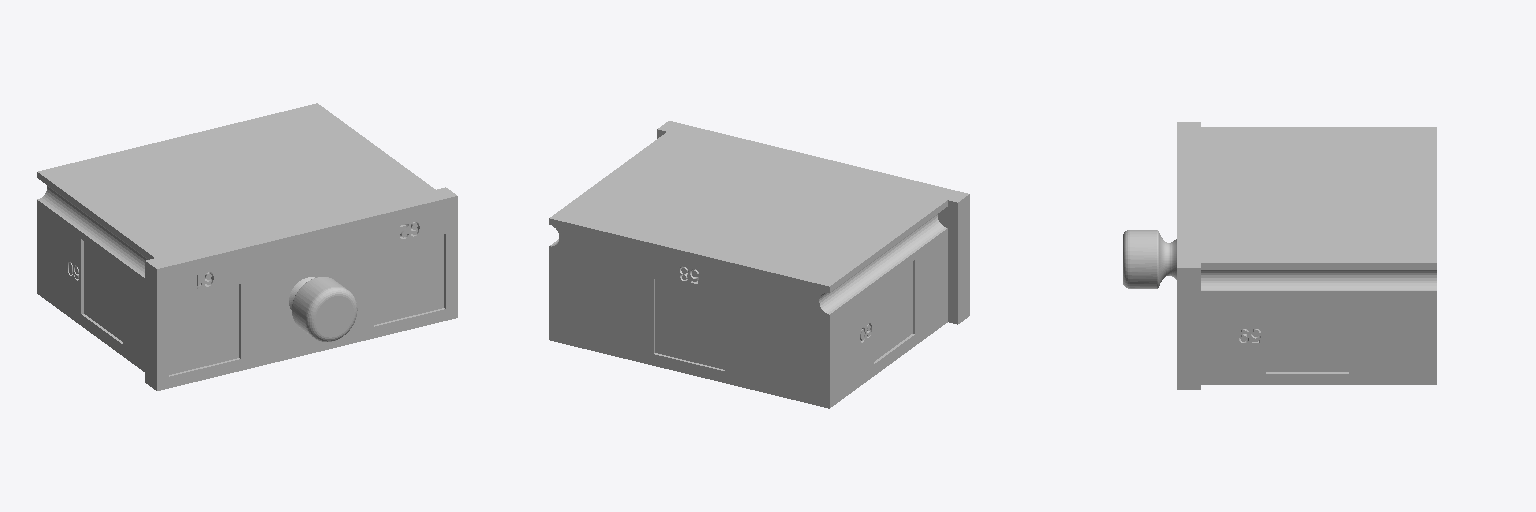
The model's file is drawer_container_bottom.obj.
The picture shows the model from 3 angles: view 1: azimuth 30°, elevation 25°; view 2: azimuth 150°, elevation 25°; view 3: azimuth 270°, elevation 25°; orthographic projection.
Parts seen in each view (by area): view 1: drawer_bottom_v17, drawer_bottom_v17.004, drawer_bottom_v17.005, drawer_bottom_v17.003; view 2: drawer_bottom_v17, drawer_bottom_v17.001, drawer_bottom_v17.003; view 3: drawer_bottom_v17, drawer_bottom_v17.002.
Boxes of the visible parts, x1=… form: drawer_bottom_v17: x1=37, y1=103, x2=457, y2=390; drawer_bottom_v17.004: x1=169, y1=284, x2=240, y2=376; drawer_bottom_v17.005: x1=374, y1=234, x2=445, y2=326; drawer_bottom_v17.003: x1=81, y1=239, x2=122, y2=343; drawer_bottom_v17: x1=549, y1=121, x2=969, y2=408; drawer_bottom_v17.001: x1=654, y1=279, x2=724, y2=370; drawer_bottom_v17.003: x1=874, y1=260, x2=914, y2=363; drawer_bottom_v17: x1=1123, y1=122, x2=1436, y2=389; drawer_bottom_v17.002: x1=1266, y1=299, x2=1348, y2=373.
Size of the model in its own units: 0.1103 by 0.0428 by 0.0997.